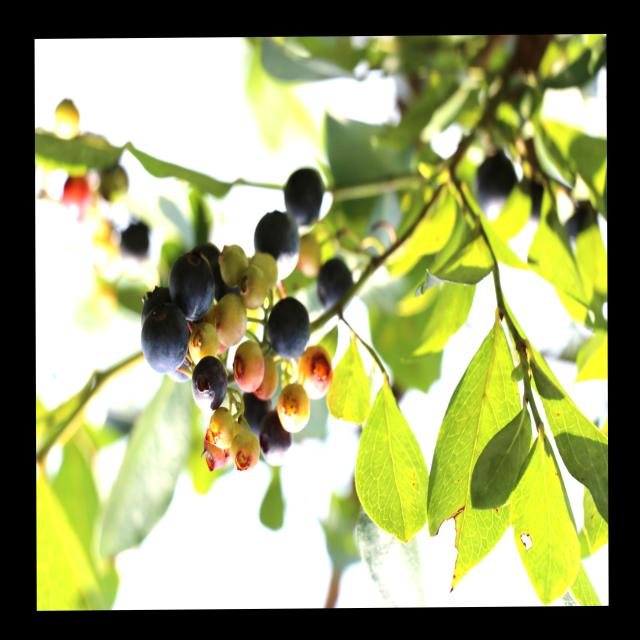blueberry: (248, 208, 302, 284), (140, 301, 192, 377), (164, 250, 216, 323), (473, 152, 523, 224), (265, 293, 310, 364), (277, 167, 327, 230), (313, 254, 354, 316), (258, 406, 295, 468), (190, 354, 228, 414)
blueberry-halfripe: (296, 348, 333, 400), (61, 171, 97, 217), (202, 437, 230, 471)
blueberry-unripe: (230, 340, 265, 397), (214, 292, 249, 347), (187, 318, 220, 368), (278, 388, 311, 433), (218, 244, 249, 291), (230, 428, 262, 473), (236, 265, 268, 310), (248, 253, 279, 294), (52, 97, 78, 143), (207, 409, 236, 449), (256, 361, 280, 403)
